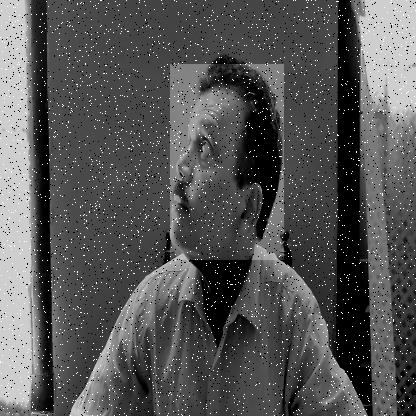Distracted: (170, 64, 284, 260)
